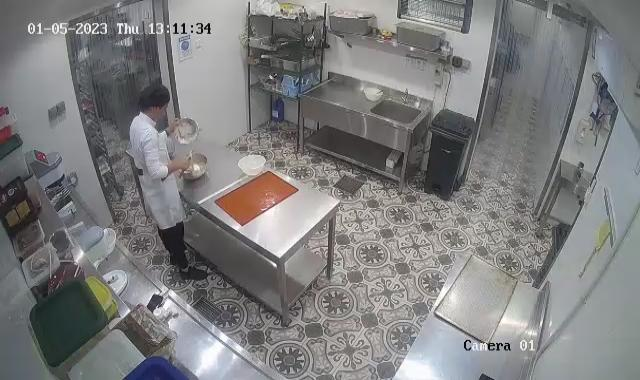no_hairnet: (134, 81, 171, 113)
